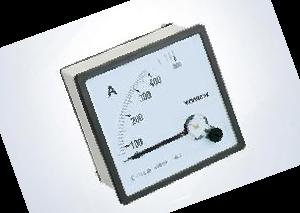pointer: (85, 34, 238, 197)
